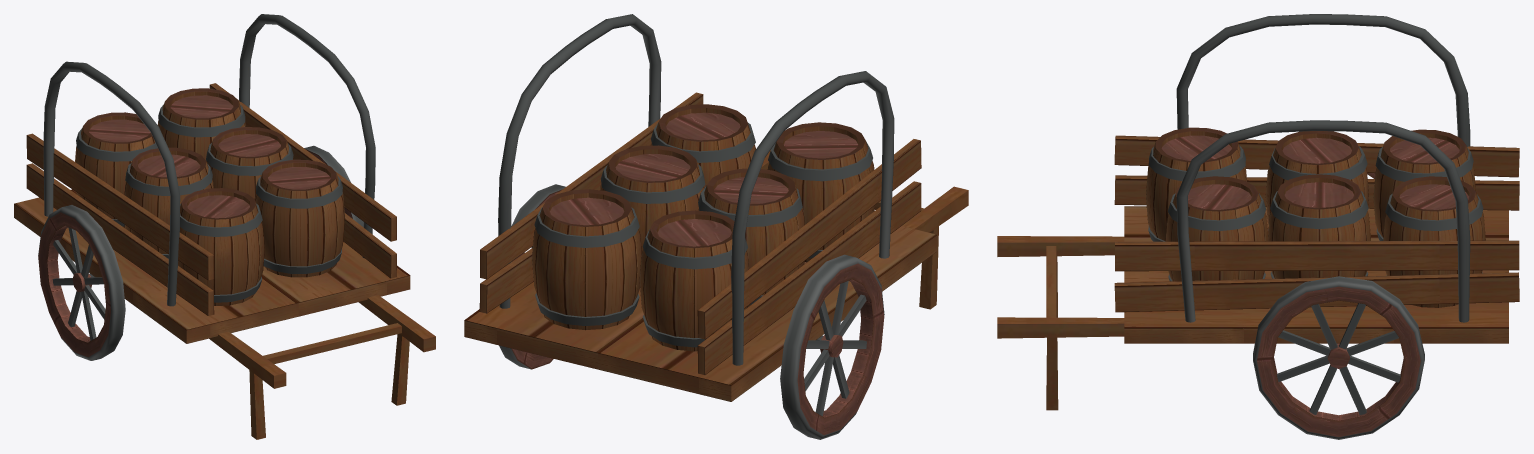
File: pm-cart.glb
The picture shows the model from 3 angles, left to right: view 1: azimuth 30°, elevation 25°; view 2: azimuth 150°, elevation 25°; view 3: azimuth 270°, elevation 25°; orthographic projection. The views are drawn at different scales.
Parts seen in each view (by area): view 1: Cart; view 2: Cart; view 3: Cart.
Part boxes in pixels (bbox=[...]): Cart: bbox=[14, 14, 435, 439]; Cart: bbox=[464, 14, 968, 439]; Cart: bbox=[997, 14, 1519, 439].
Size of what is drawn, in the model's own units: 3.37 by 3.42 by 5.34.
Materials: 2 (2 with a texture image).
